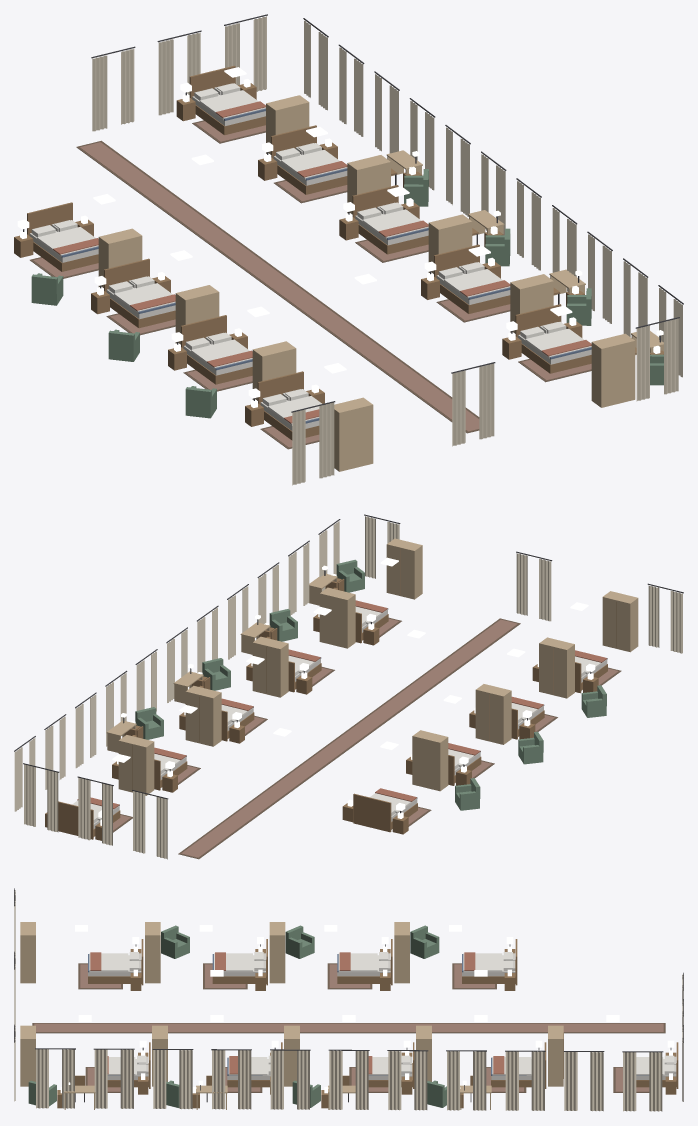
Rendered from fine-s1.glb.
3 views of the same model, one above another, from view 1: azimuth 30°, elevation 25°; view 2: azimuth 150°, elevation 25°; view 3: azimuth 270°, elevation 25° (orthographic). The views are drawn at different scales.
Parts seen in each view (by area): view 1: soft-s1, dresser.008, dresser.003, bed-frame.006, bed-frame.004, bed-frame.008, bed-frame.005, bed-frame.007, bed-frame.000, bed-frame.001, bed-frame.002, bed-frame.003 (+13 smaller); view 2: soft-s1, dresser.000, dresser.003, dresser.001, dresser.002, dresser.005, dresser.008, dresser.007, dresser.006, dresser.004, bed-frame.000, bed-frame.004 (+9 smaller); view 3: soft-s1, dresser.001, dresser.000, dresser.002, dresser.003, dresser.004, dresser.008, dresser.006, lounge-chair.001, lounge-chair.000, lounge-chair.002, bed-frame.003 (+11 smaller).
Boxes of the visible parts, bbox=[...] form: soft-s1: bbox=[17, 14, 683, 485]; dresser.008: bbox=[591, 333, 635, 407]; dresser.003: bbox=[334, 397, 373, 471]; bed-frame.006: bbox=[352, 185, 428, 254]; bed-frame.004: bbox=[189, 65, 265, 135]; bed-frame.008: bbox=[515, 304, 591, 373]; bed-frame.005: bbox=[271, 125, 347, 194]; bed-frame.007: bbox=[434, 244, 510, 313]; bed-frame.000: bbox=[27, 202, 98, 271]; bed-frame.001: bbox=[104, 258, 175, 328]; bed-frame.002: bbox=[181, 315, 252, 384]; bed-frame.003: bbox=[257, 371, 319, 440]; soft-s1: bbox=[14, 514, 683, 859]; dresser.000: bbox=[412, 730, 448, 791]; dresser.003: bbox=[602, 591, 638, 652]; dresser.001: bbox=[475, 684, 511, 744]; dresser.002: bbox=[539, 637, 574, 698]; dresser.005: bbox=[185, 685, 221, 746]; dresser.008: bbox=[386, 538, 422, 599]; dresser.007: bbox=[319, 587, 355, 648]; dresser.006: bbox=[252, 636, 288, 697]; dresser.004: bbox=[118, 735, 154, 795]; bed-frame.000: bbox=[353, 793, 417, 832]; bed-frame.004: bbox=[58, 801, 120, 839]; soft-s1: bbox=[14, 888, 683, 1111]; dresser.001: bbox=[269, 922, 285, 983]; dresser.000: bbox=[394, 922, 409, 983]; dresser.002: bbox=[145, 922, 160, 983]; dresser.003: bbox=[20, 922, 35, 983]; dresser.004: bbox=[548, 1025, 563, 1086]; dresser.008: bbox=[20, 1025, 35, 1086]; dresser.006: bbox=[284, 1025, 299, 1086]; lounge-chair.001: bbox=[285, 925, 314, 958]; lounge-chair.000: bbox=[410, 925, 439, 958]; lounge-chair.002: bbox=[161, 925, 189, 958]; bed-frame.003: bbox=[88, 939, 143, 985].
Bounding box in the file's own units: 14.88 × 2.56 × 25.42.
